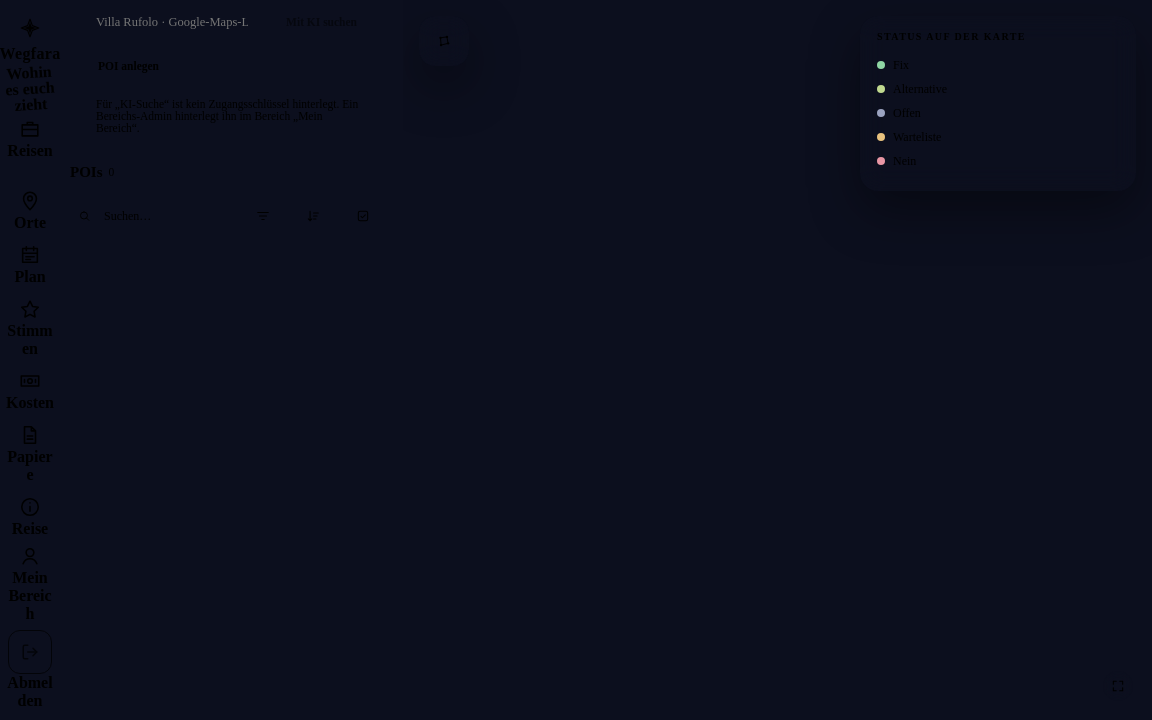
it: PlanView › öffnet beim Klick auf den Reisenamen eine Liste mit genau drei Reisen
Click the button titled "Reise: Süditalien Rundreise" at (30,139), box left=4, top=113, right=56, bottom=165
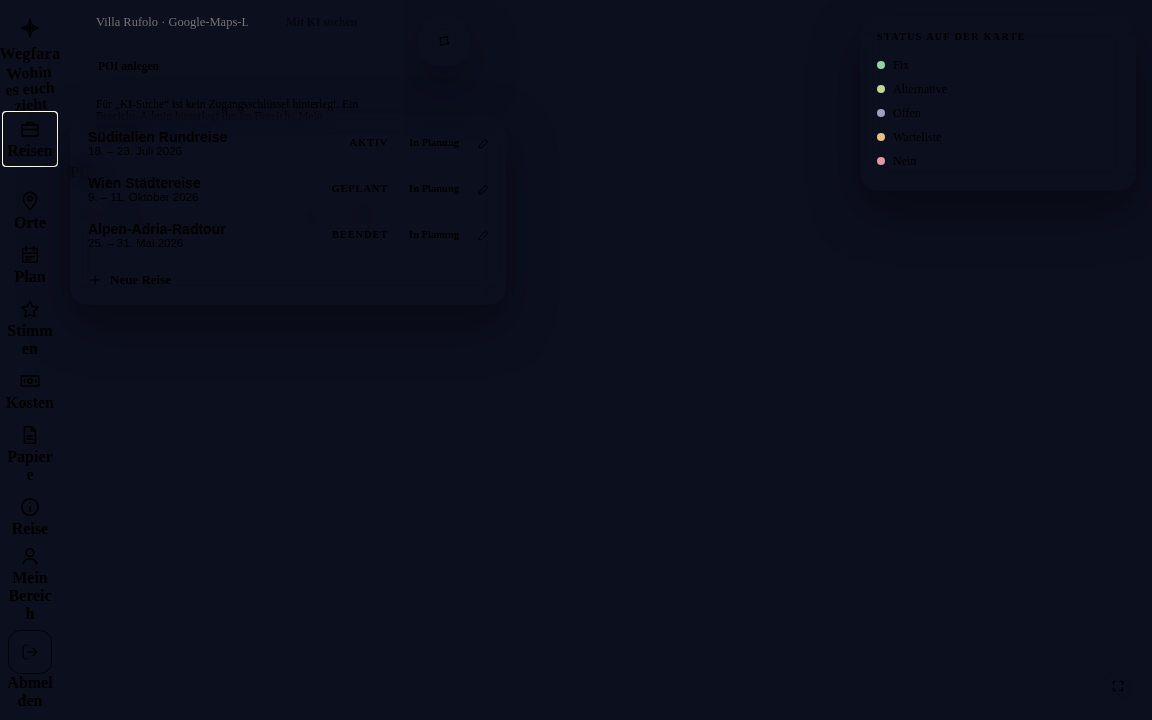
Expected: the number of list items is 3, left=78, top=121, right=498, bottom=165; left=78, top=167, right=498, bottom=211; left=78, top=213, right=498, bottom=257
